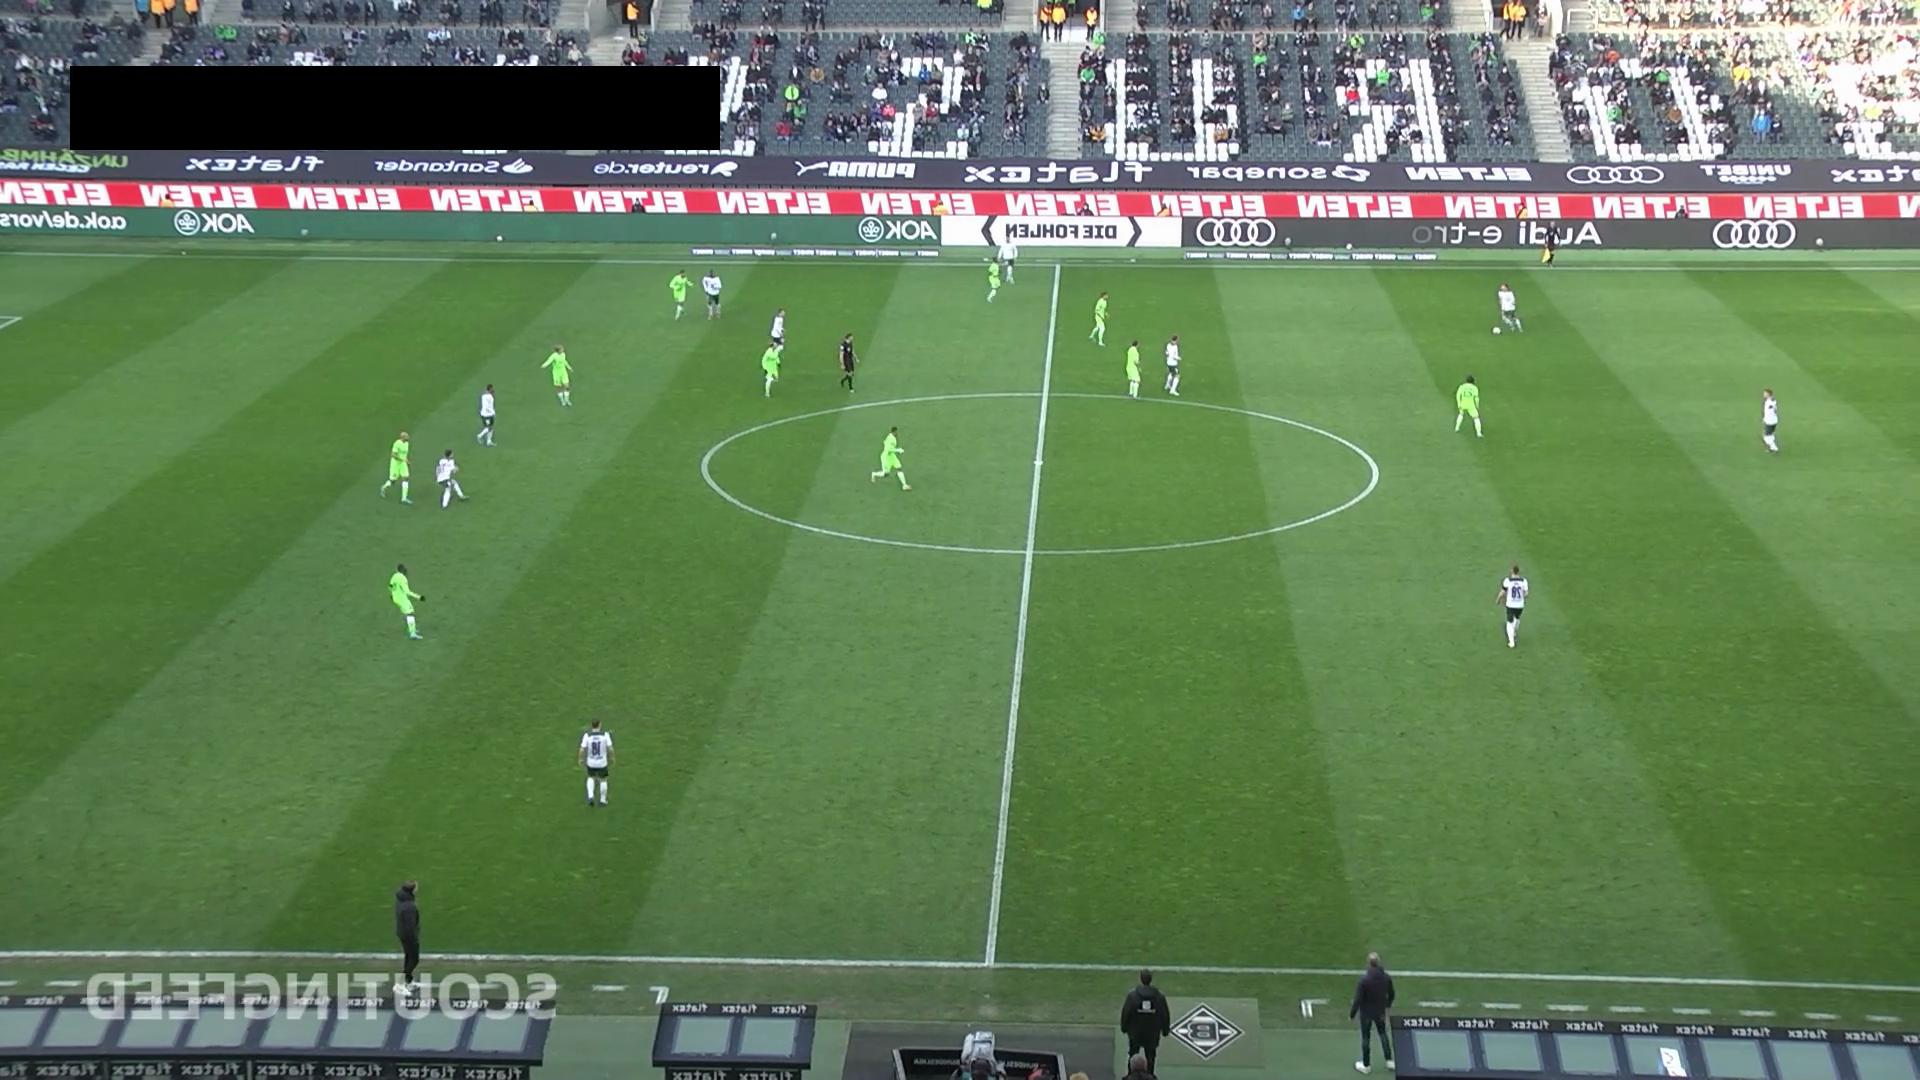ball: (1492, 325, 1503, 338)
player: (577, 717, 617, 808), (1494, 562, 1529, 648), (388, 562, 425, 640), (871, 425, 912, 491), (379, 430, 414, 504), (540, 342, 575, 408), (435, 448, 468, 509), (1454, 374, 1484, 437), (1496, 282, 1524, 334), (476, 384, 497, 446), (1761, 387, 1780, 454), (669, 268, 693, 321), (761, 341, 783, 398), (1088, 290, 1109, 347), (1163, 334, 1182, 396), (701, 268, 723, 320), (1125, 339, 1143, 398), (996, 240, 1018, 284), (769, 308, 786, 352), (986, 259, 1002, 303)
referee: (838, 333, 858, 391), (1541, 225, 1559, 266)
